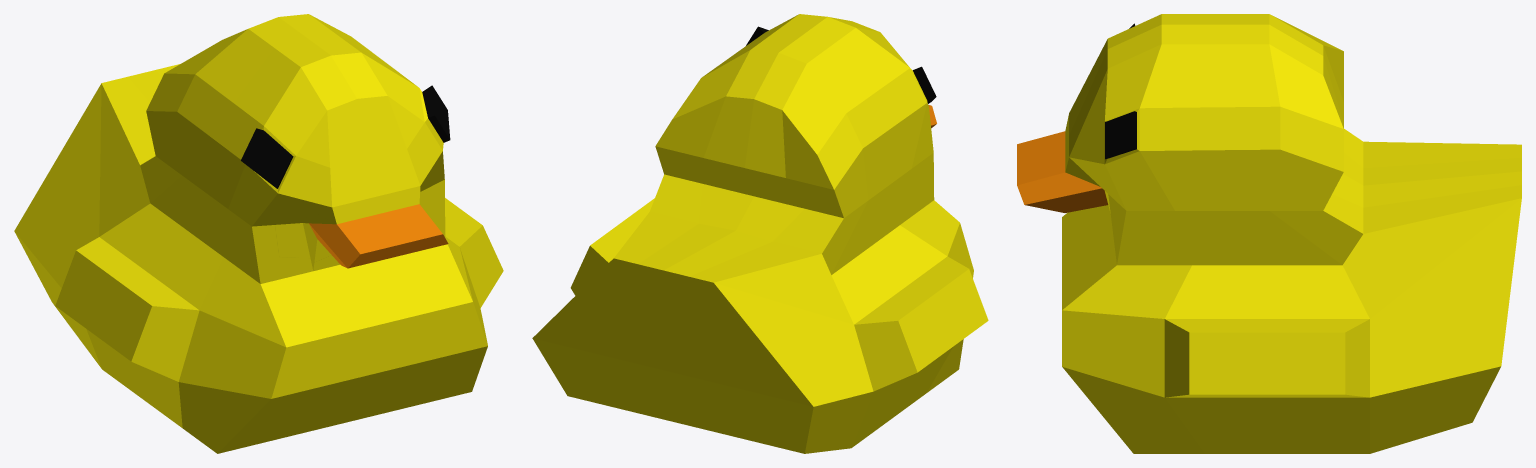
The model's file is duck.obj.
3 views of the same model, side by side, from view 1: azimuth 30°, elevation 25°; view 2: azimuth 150°, elevation 25°; view 3: azimuth 270°, elevation 25° (orthographic). The views are drawn at different scales.
Parts seen in each view (by area): view 1: Cube; view 2: Cube; view 3: Cube.
Boxes of the visible parts, left/top/right/bottom form: Cube: left=14, top=14, right=503, bottom=453; Cube: left=532, top=14, right=988, bottom=453; Cube: left=1017, top=14, right=1521, bottom=453.
Bounding box in the file's own units: 14.34 × 13.15 × 16.45.
